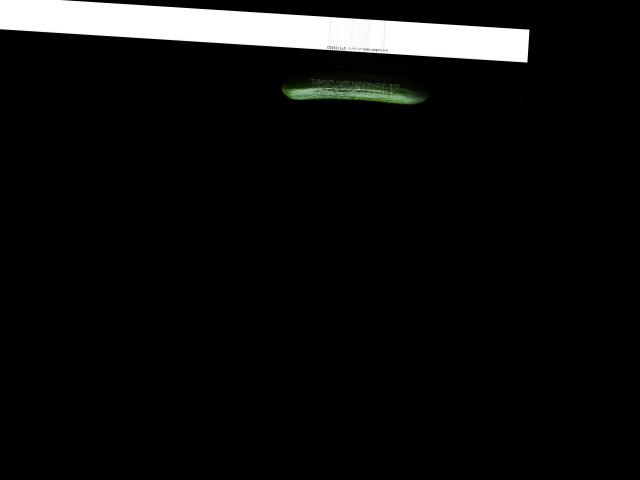cucumber: (280, 75, 427, 106)
